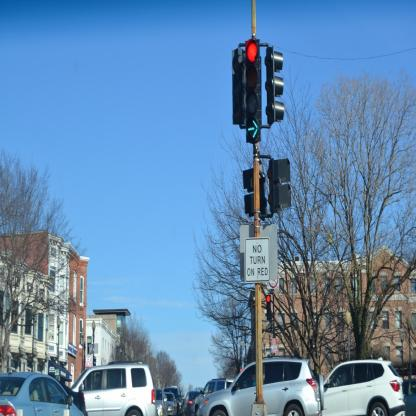Traffic Signal: (242, 38, 261, 125)
